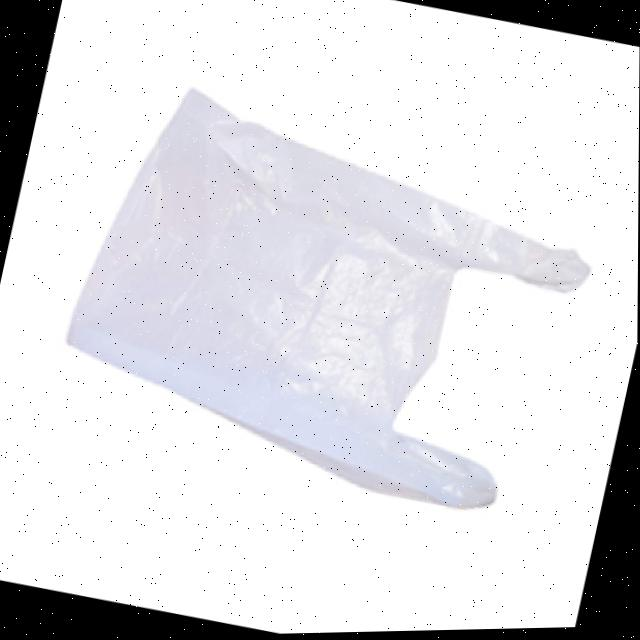plastic_bag: (35, 55, 635, 553)
